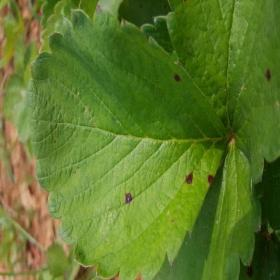Leaf Spot: (26, 3, 229, 279), (165, 0, 279, 184), (119, 0, 171, 29)
